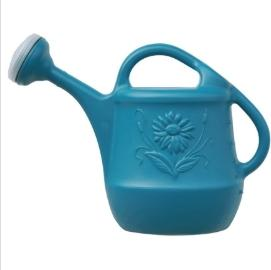ARROSOIR: (1, 1, 271, 269)
